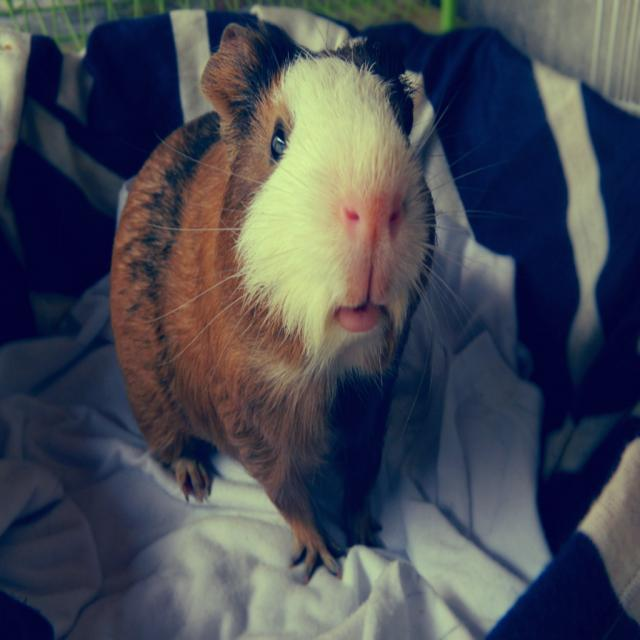rat: (109, 16, 441, 586)
